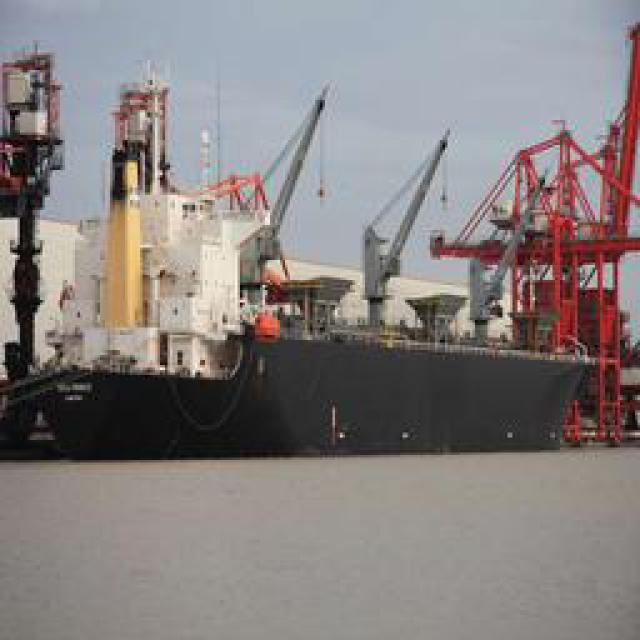Ship: (1, 174, 591, 465)
